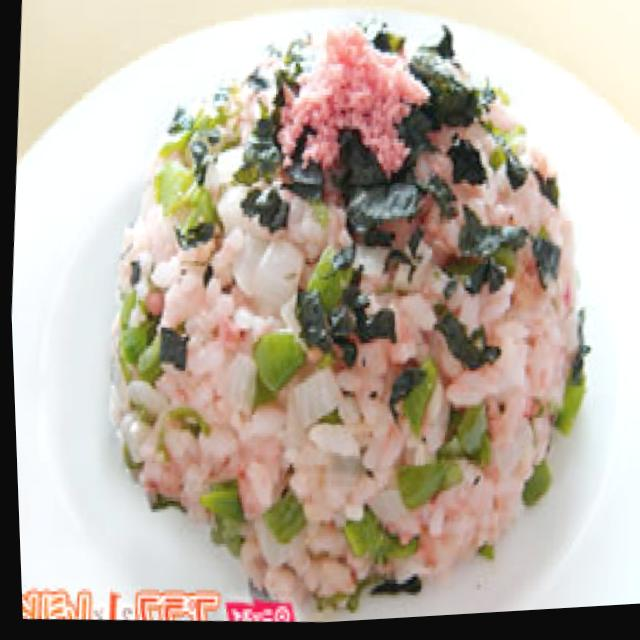米饭主食: (1, 12, 640, 640)
